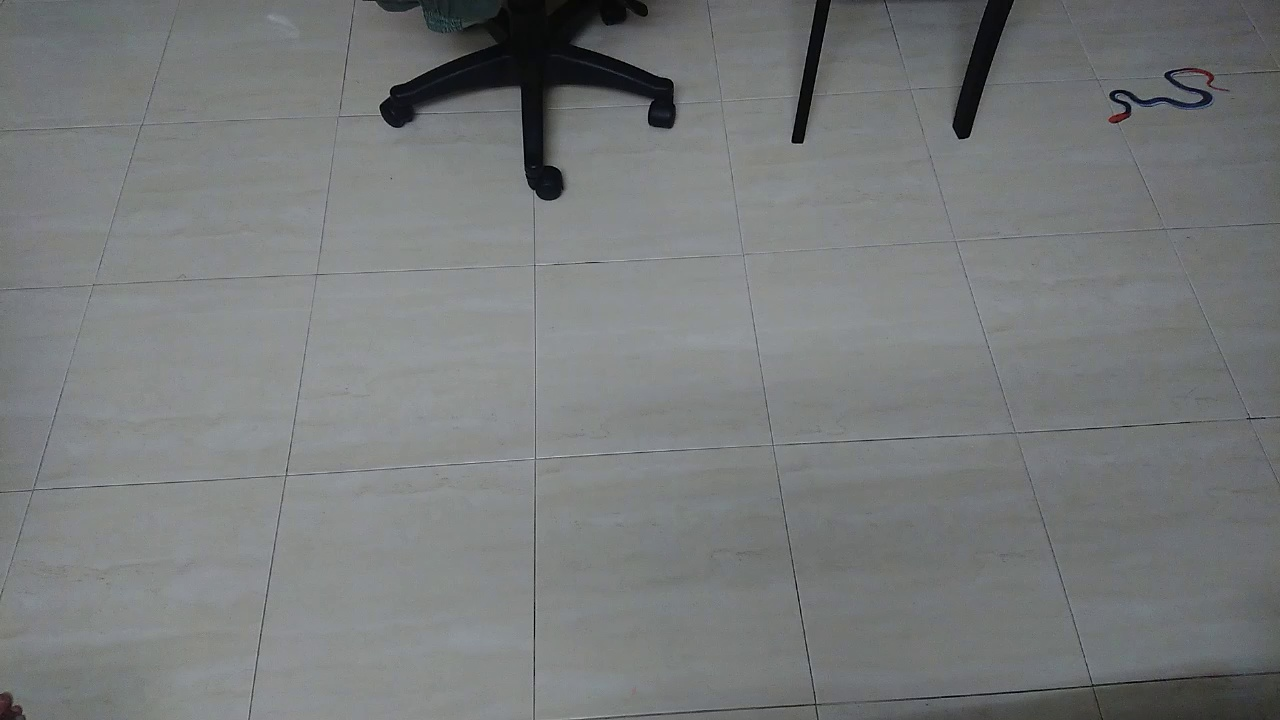snake: (1096, 57, 1242, 133)
